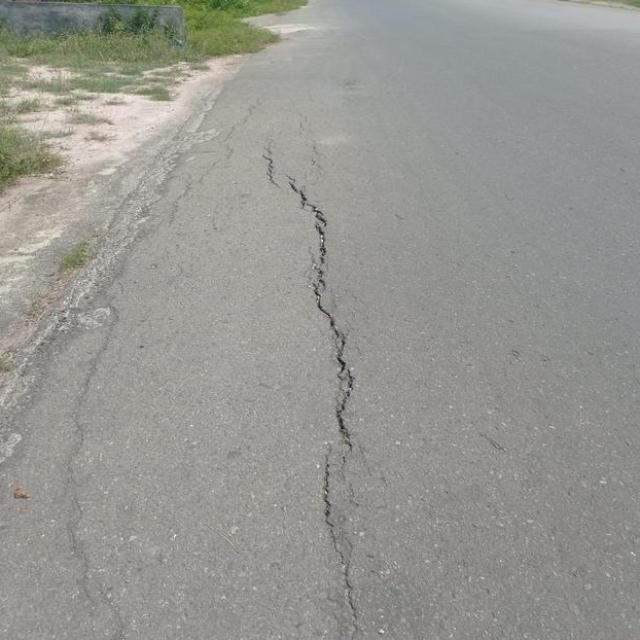Memanjang: (258, 152, 365, 640)
